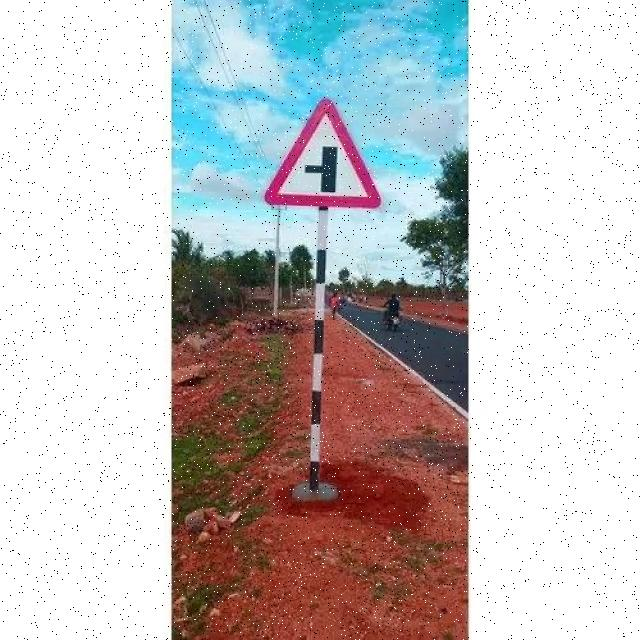Sideroad_toleft: (264, 101, 384, 208)
